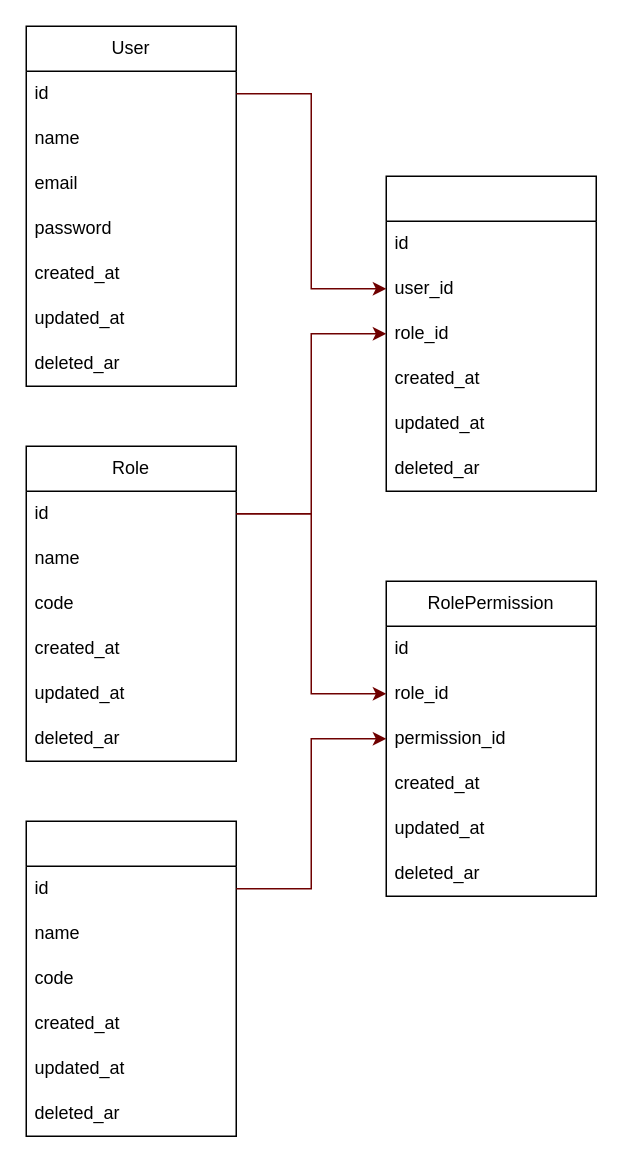
The diagram is 623 pixels wide and 1163 high, and some of its shapes have lost their labels. Here are the shapes that lost their labels. From the top down, the box of each, then its label:
(385, 175, 596, 491): UserRole
(25, 820, 236, 1136): Permission
